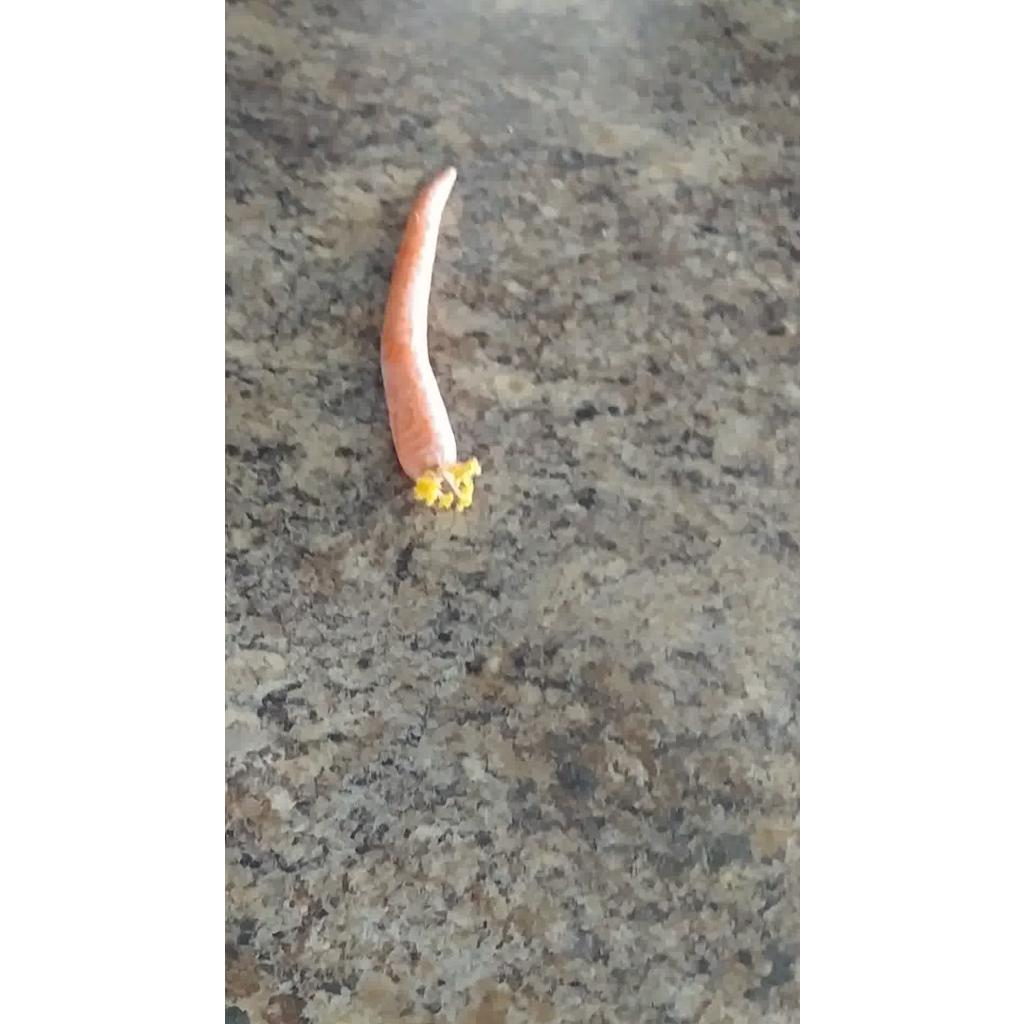carrot: (380, 166, 480, 510)
